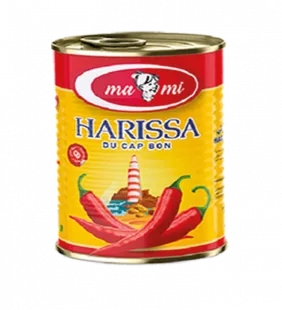Promotion: (44, 20, 237, 276)
